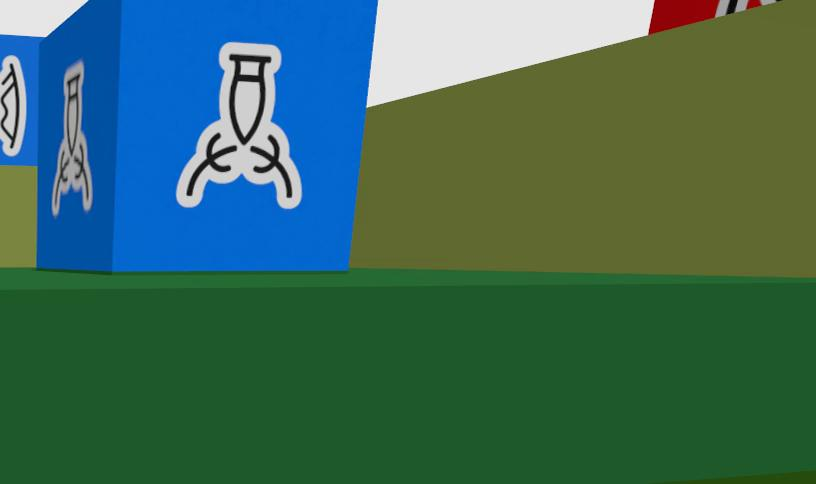KFS_REAL: (31, 0, 376, 272), (177, 44, 301, 208), (51, 62, 92, 215), (0, 35, 41, 166), (0, 55, 26, 156)
